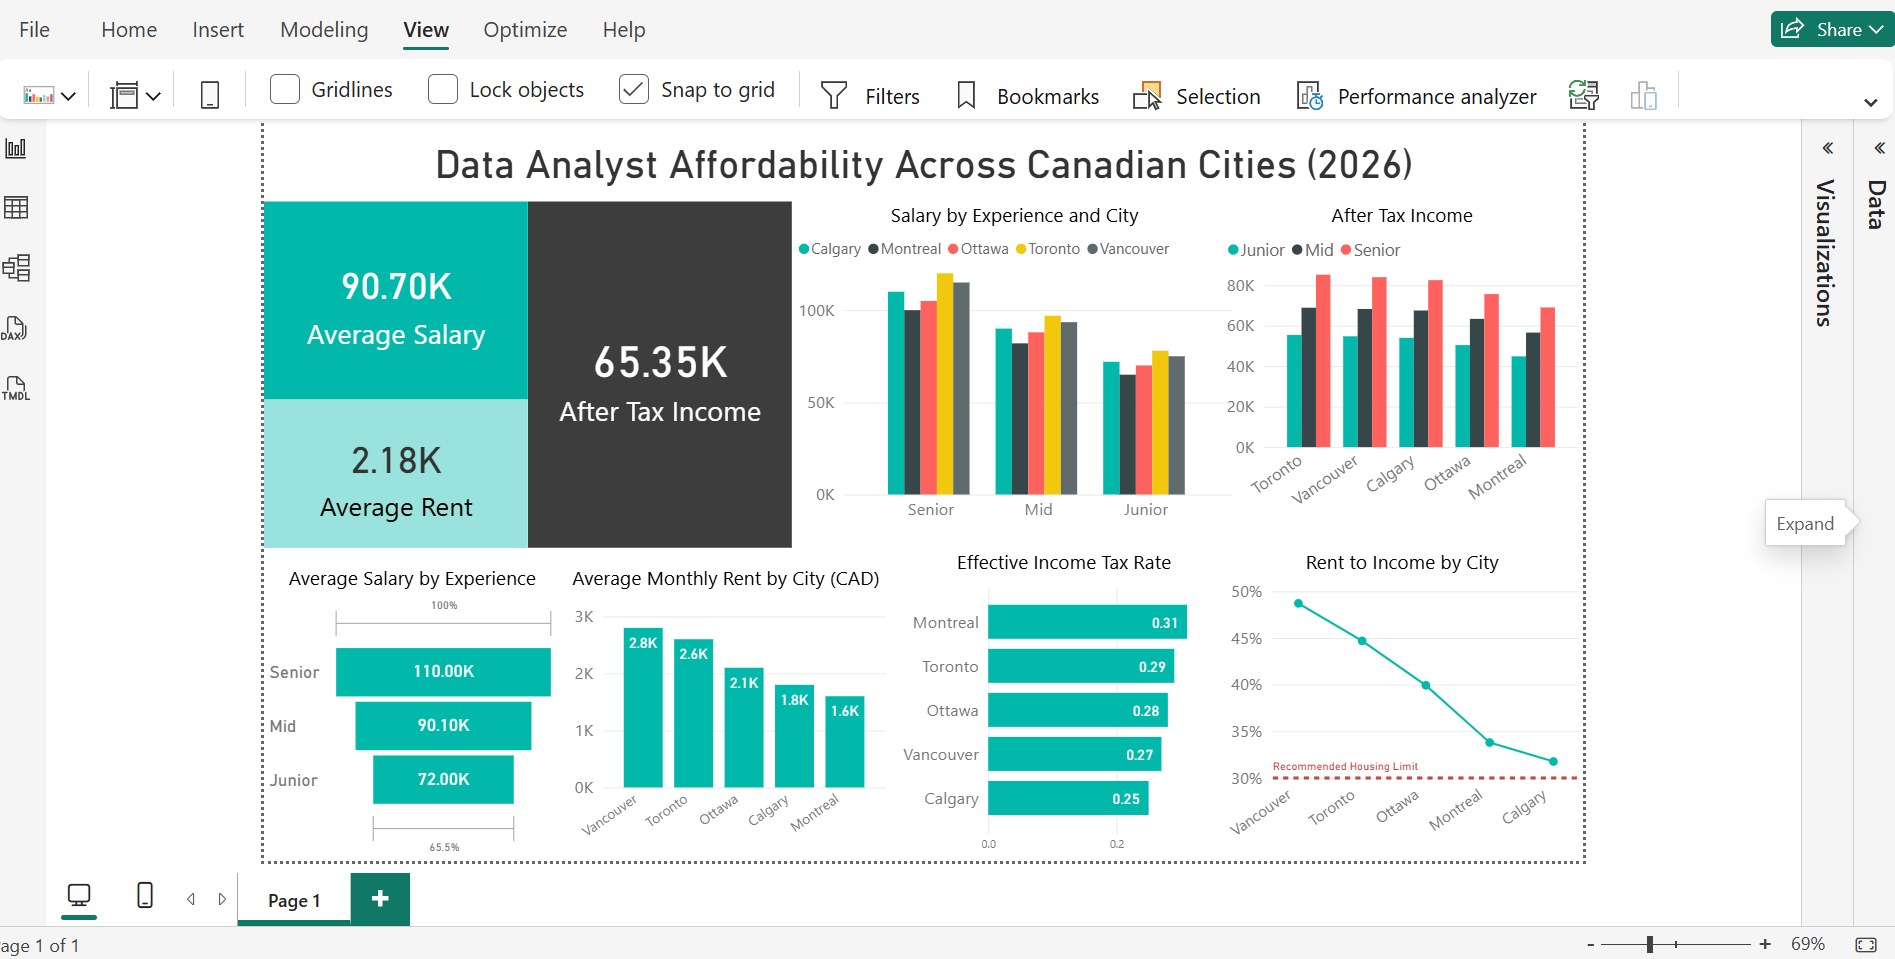

Layout of this report page (visuals, bound fields, positions):
{"tool":"powerbi","page":{"name":"Page 1","canvas":[1280,720],"ordinal":0},"visuals":[{"type":"clusteredColumnChart","title":"Average Monthly Rent by City (CAD)","fields":{"Category":["Sheet1.City"],"Y":["Avg(Sheet1.Avg_Rent_Monthly)"]},"box":[288,432,320,288],"z":0},{"type":"clusteredColumnChart","title":"Salary by Experience and City","fields":{"Category":["Sheet1.Experience_Level"],"Y":["Avg(Sheet1.Avg_Salary_Annual)"],"Series":["Sheet1.City"]},"box":[512,80,432,320],"z":1000},{"type":"funnel","title":"Average Salary by Experience","fields":{"Category":["Sheet1.Experience_Level"],"Y":["Avg(Sheet1.Avg_Salary_Annual)"]},"box":[0,432,288,288],"z":2000},{"type":"clusteredBarChart","title":"Effective Income Tax Rate","fields":{"Category":["Sheet1.City"],"Y":["Avg(Sheet1.Effective_Tax_Rate)"]},"box":[608,416,336,304],"z":3000},{"type":"clusteredColumnChart","title":"After Tax Income","fields":{"Category":["Sheet1.City"],"Y":["Avg(Sheet1.After_tax_salary)"],"Series":["Sheet1.Experience_Level"]},"box":[928,80,352,320],"z":4000},{"type":"lineChart","title":"Rent to Income by City","fields":{"Category":["Sheet1.City"],"Y":["Sheet1.Rent_to_Income"]},"box":[928,416,352,304],"z":5000},{"type":"card","title":"Av","fields":{"Values":["Avg(Sheet1.Avg_Salary_Annual)"]},"box":[0,80,256,192],"z":5001},{"type":"card","fields":{"Values":["Avg(Sheet1.Avg_Rent_Monthly)"]},"box":[0,272,256,144],"z":5002},{"type":"card","fields":{"Values":["Avg(Sheet1.After_tax_income)"]},"box":[256,80,256,336],"z":5003},{"type":"textbox","box":[80,16,1120,64],"z":5004}]}

Visuals, with their boxes on the page's 1280x720 design canvas (x1, y1, x2, y2). These are canvas units, not pixel positions in the 1895x959 screenshot, which may show the page scaled, cropped or inside an application window:
"Average Monthly Rent by City (CAD)" clusteredColumnChart: [288, 432, 608, 720]
"Salary by Experience and City" clusteredColumnChart: [512, 80, 944, 400]
"Average Salary by Experience" funnel: [0, 432, 288, 720]
"Effective Income Tax Rate" clusteredBarChart: [608, 416, 944, 720]
"After Tax Income" clusteredColumnChart: [928, 80, 1280, 400]
"Rent to Income by City" lineChart: [928, 416, 1280, 720]
"Av" card: [0, 80, 256, 272]
card - Avg(Sheet1.Avg_Rent_Monthly): [0, 272, 256, 416]
card - Avg(Sheet1.After_tax_income): [256, 80, 512, 416]
textbox: [80, 16, 1200, 80]
